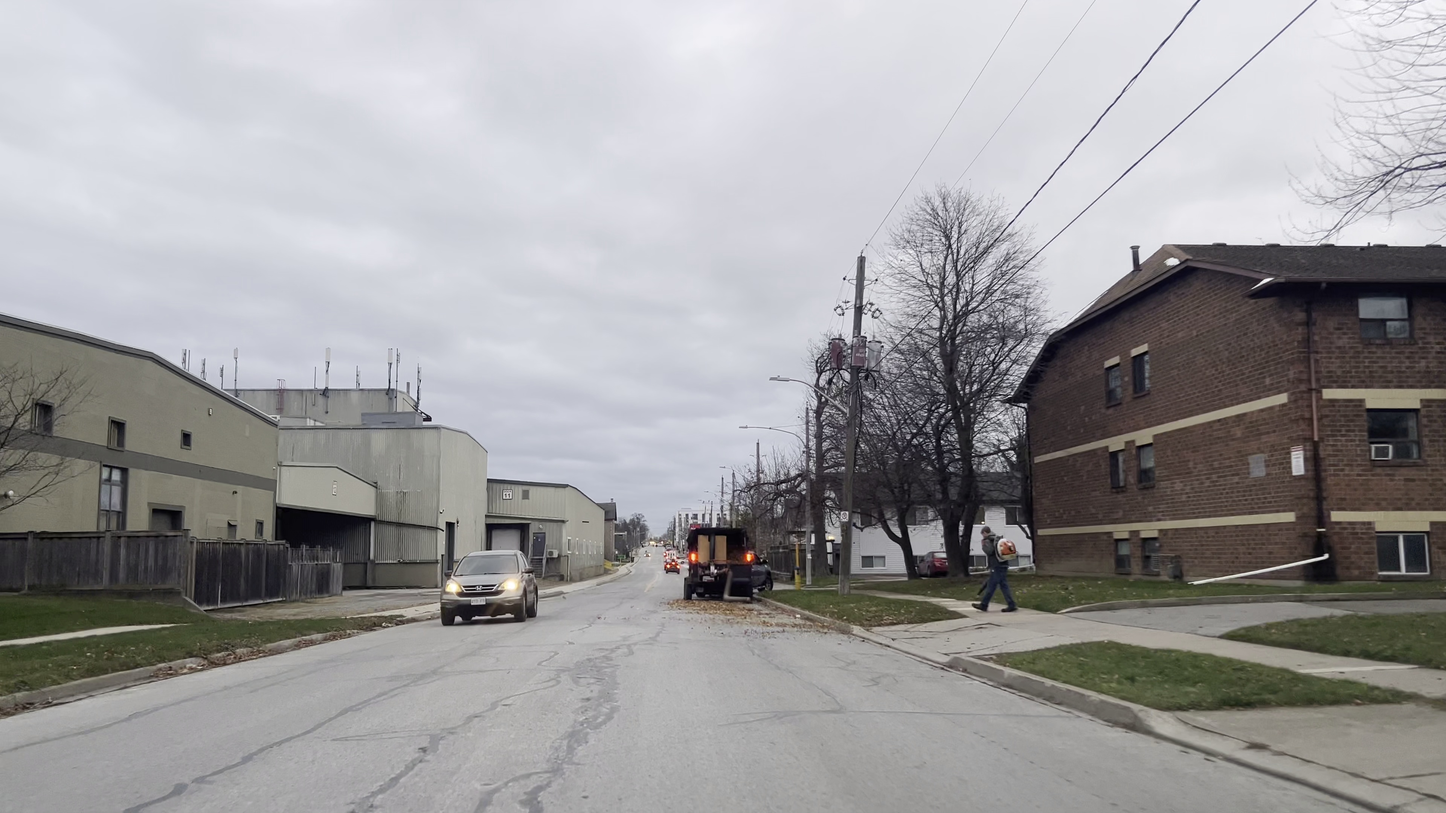cracks: (485, 730, 579, 804), (363, 733, 446, 803), (562, 654, 621, 713)
